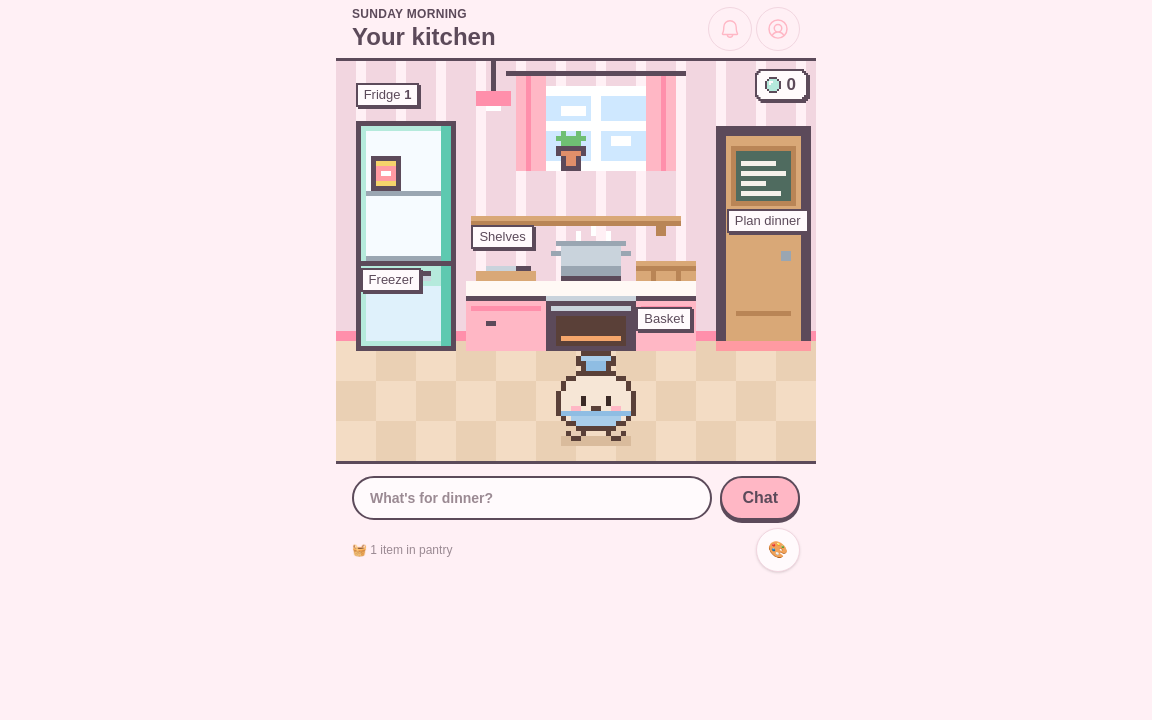
it: kitchen home wall (#748) › opens the storage sheet on a tapped place, where it was the pantry page before (#749)
Step 1. Click the button with aria-label "Fridge, 1 item" → click(406, 174), box top-left (356, 83), bottom-right (456, 266)
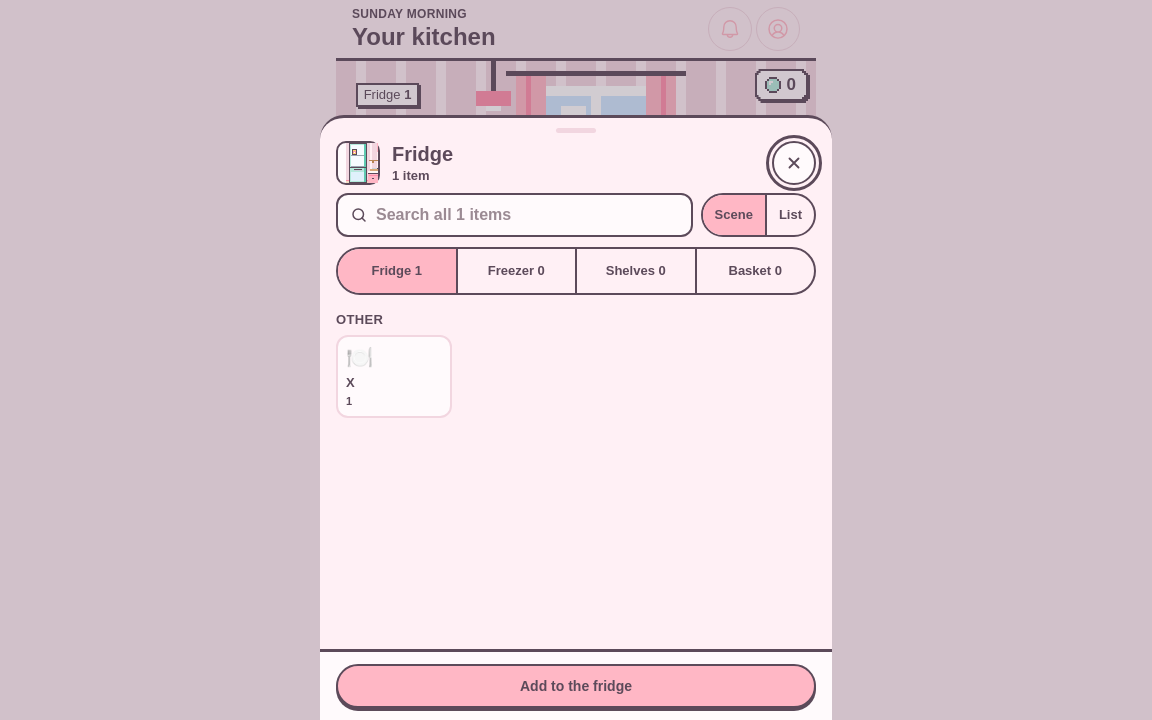
Expected: the dialog with test id "storage-sheet" is shown, top-left (320, 115), bottom-right (832, 719)
